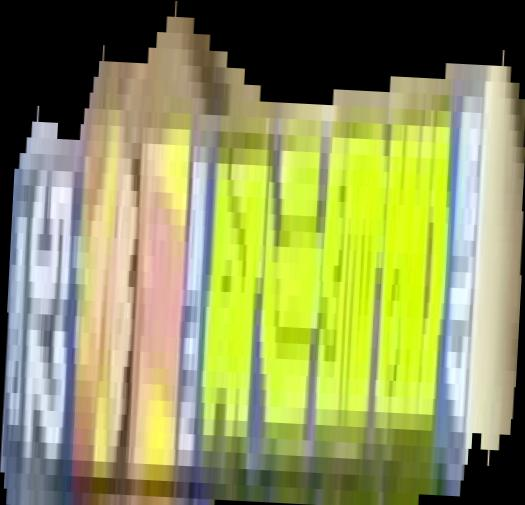flat: (1, 1, 525, 505)
